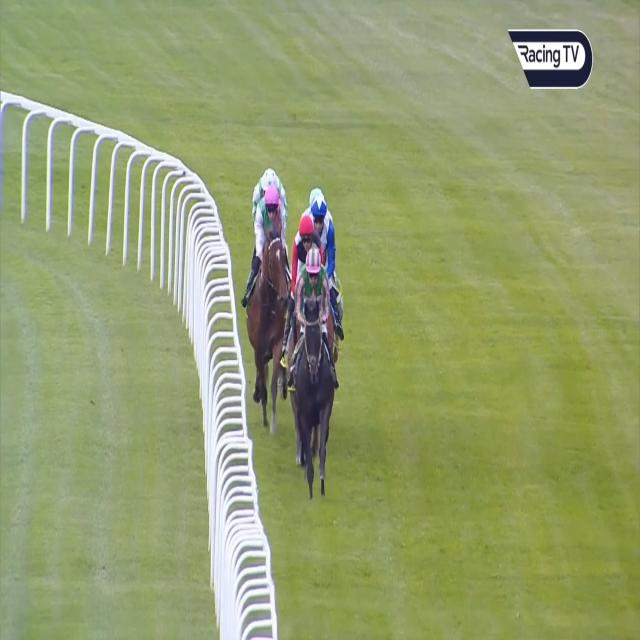horses-racing: (292, 246, 332, 487), (253, 188, 287, 414), (310, 198, 341, 276), (252, 161, 292, 213), (288, 210, 319, 271), (306, 180, 323, 210)
